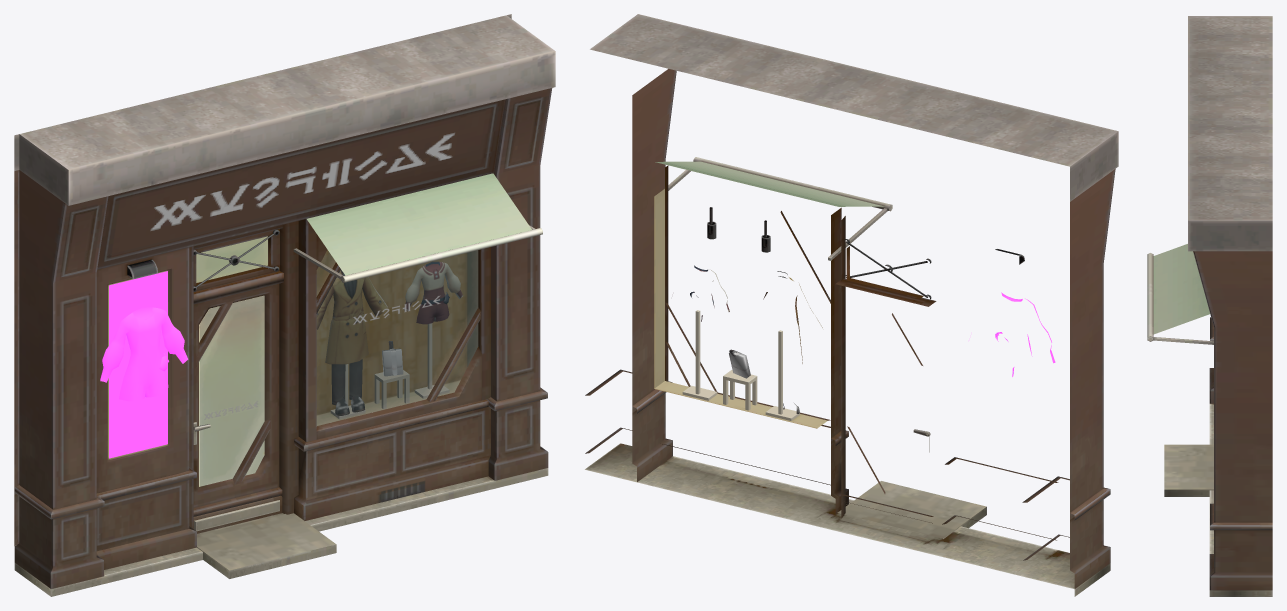
Rendered from t1_b_boutique1_d.glb.
The picture shows the model from 3 angles, left to right: view 1: azimuth 30°, elevation 25°; view 2: azimuth 150°, elevation 25°; view 3: azimuth 270°, elevation 25°; orthographic projection. The views are drawn at different scales.
Parts seen in each view (by area): view 1: nomerge_t1_b_boutique1_d_shop_mesh; view 2: nomerge_t1_b_boutique1_d_shop_mesh; view 3: nomerge_t1_b_boutique1_d_shop_mesh.
Boxes of the visible parts, x1,y1,x2,y2 form: nomerge_t1_b_boutique1_d_shop_mesh: (14, 14, 555, 596); nomerge_t1_b_boutique1_d_shop_mesh: (585, 14, 1118, 596); nomerge_t1_b_boutique1_d_shop_mesh: (1147, 16, 1272, 596).
Size of the model in its own units: 5.5 by 4.6 by 1.39.
Materials: 4 (3 with a texture image).
